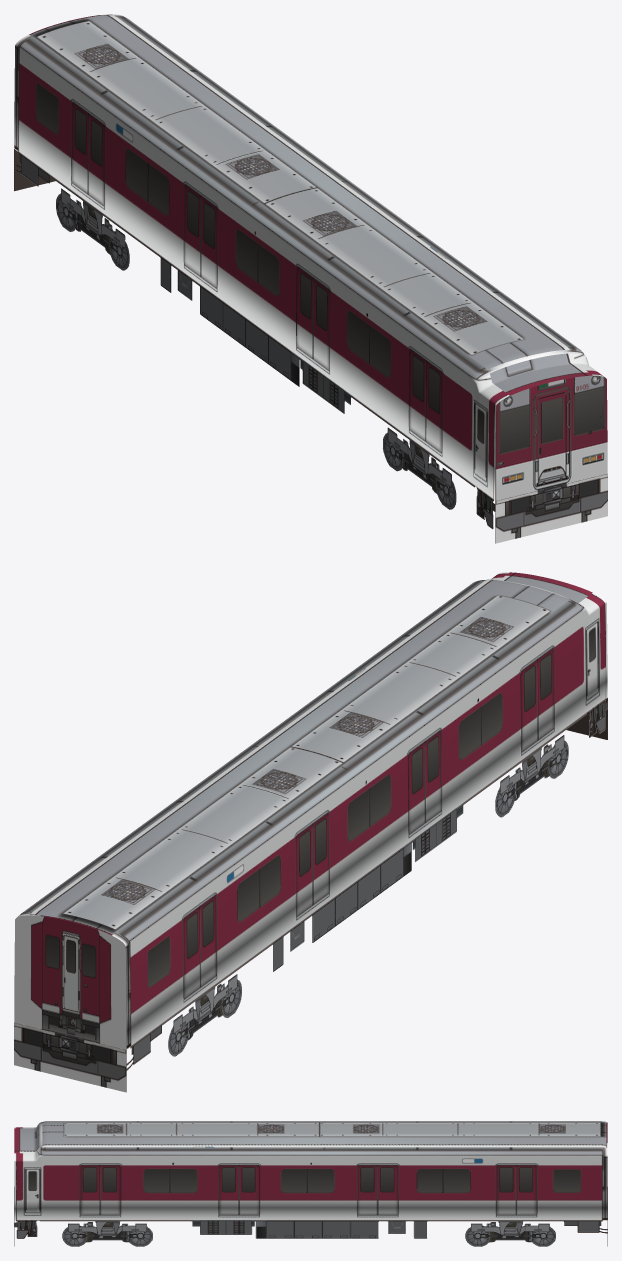
Rendered from car1.glb.
3 views of the same model, one above another, from view 1: azimuth 30°, elevation 25°; view 2: azimuth 150°, elevation 25°; view 3: azimuth 270°, elevation 25° (orthographic). The views are drawn at different scales.
Parts seen in each view (by area): view 1: kintetsu-9000-car1; view 2: kintetsu-9000-car1; view 3: kintetsu-9000-car1.
Part boxes in pixels (box(x1,y1,x2,y2)): kintetsu-9000-car1: box(14, 14, 607, 543); kintetsu-9000-car1: box(14, 572, 607, 1092); kintetsu-9000-car1: box(14, 1121, 607, 1246).
Size of the model in its own units: 2.8 by 3.76 by 20.8.
Materials: 8 (7 with a texture image).
